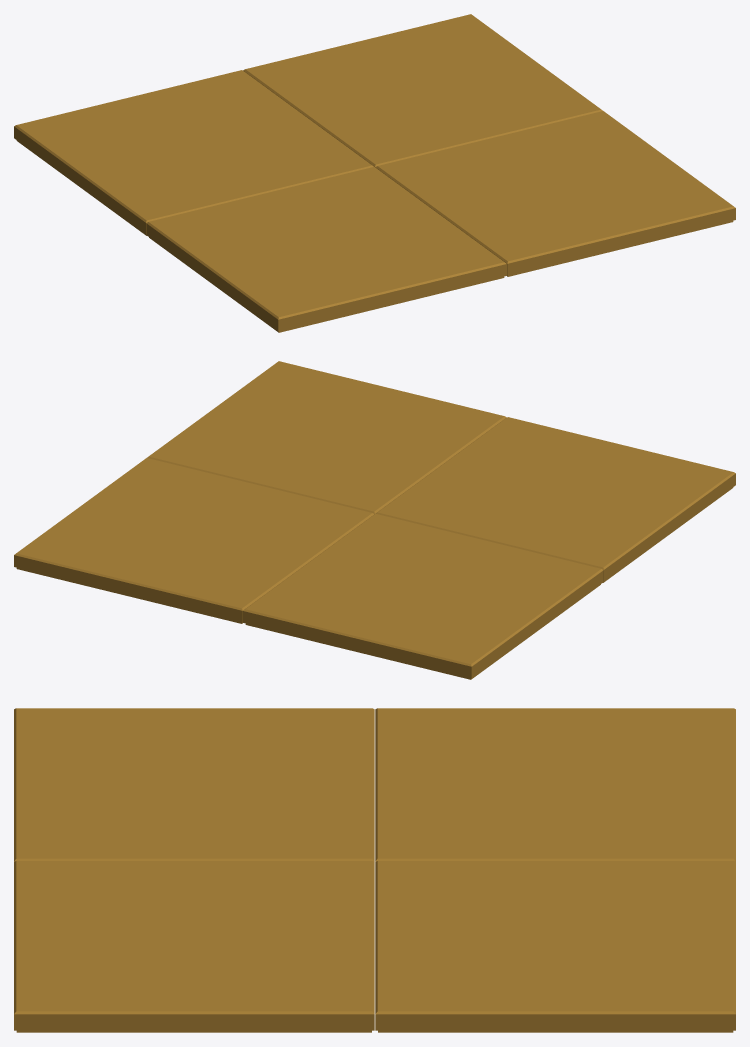
Rendered from sand.obj.
3 views of the same model, one above another, from view 1: azimuth 30°, elevation 25°; view 2: azimuth 150°, elevation 25°; view 3: azimuth 270°, elevation 25° (orthographic). The views are drawn at different scales.
Visible parts, largest first — view 1: Part.4, Part.2, Part.3, Part.1; view 2: Part.3, Part.1, Part.4, Part.2; view 3: Part.1, Part.2, Part.3, Part.4.
Boxes of the visible parts, <box> form: Part.4: <box>146,167,506,332</box>; Part.2: <box>375,111,735,276</box>; Part.3: <box>14,70,373,235</box>; Part.1: <box>243,14,602,166</box>; Part.3: <box>243,514,603,679</box>; Part.1: <box>14,458,374,623</box>; Part.4: <box>376,417,735,582</box>; Part.2: <box>147,361,506,513</box>; Part.1: <box>375,861,735,1032</box>; Part.2: <box>14,861,374,1032</box>; Part.3: <box>375,708,735,861</box>; Part.4: <box>14,708,374,861</box>.
Bounding box in the file's own units: 95.92 × 3.16 × 95.92.
